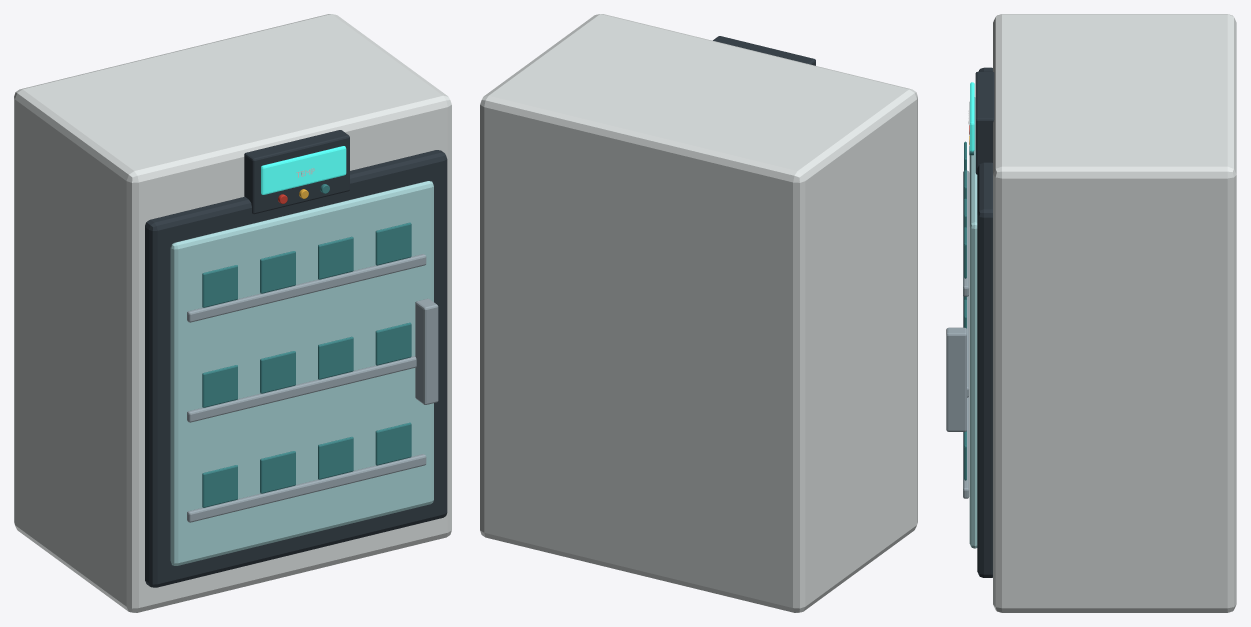
File: incubator.glb
3 views of the same model, side by side, from view 1: azimuth 30°, elevation 25°; view 2: azimuth 150°, elevation 25°; view 3: azimuth 270°, elevation 25° (orthographic).
Visible parts, largest first — view 1: Incubator body, Inner door, Door surround, Control bezel, Shelf rail.002, Shelf rail, Shelf rail.001, Screen, Door handle, Sample silhouette.007, Sample silhouette.003, Sample silhouette.011 (+9 smaller); view 2: Incubator body, Control bezel; view 3: Incubator body, Door surround, Inner door, Door handle, Control bezel, Shelf rail.002, Shelf rail.
Boxes of the visible parts, x1=… form: Incubator body: x1=14, y1=14, x2=451, y2=612; Inner door: x1=170, y1=181, x2=433, y2=565; Door surround: x1=145, y1=150, x2=447, y2=587; Control bezel: x1=244, y1=130, x2=349, y2=214; Shelf rail.002: x1=187, y1=254, x2=426, y2=322; Shelf rail: x1=187, y1=454, x2=426, y2=522; Shelf rail.001: x1=187, y1=356, x2=416, y2=422; Screen: x1=261, y1=146, x2=346, y2=194; Door handle: x1=415, y1=298, x2=438, y2=404; Sample silhouette.007: x1=375, y1=322, x2=411, y2=365; Sample silhouette.003: x1=375, y1=422, x2=411, y2=465; Sample silhouette.011: x1=375, y1=222, x2=411, y2=265; Incubator body: x1=480, y1=14, x2=917, y2=612; Control bezel: x1=713, y1=36, x2=815, y2=65; Incubator body: x1=993, y1=14, x2=1236, y2=612; Door surround: x1=977, y1=67, x2=992, y2=577; Inner door: x1=969, y1=97, x2=977, y2=548; Door handle: x1=946, y1=327, x2=966, y2=431; Control bezel: x1=975, y1=71, x2=994, y2=174; Shelf rail.002: x1=963, y1=170, x2=969, y2=296; Shelf rail: x1=963, y1=396, x2=969, y2=498.
Size of the model in its own units: 1.46 by 1.9 by 1.12.
